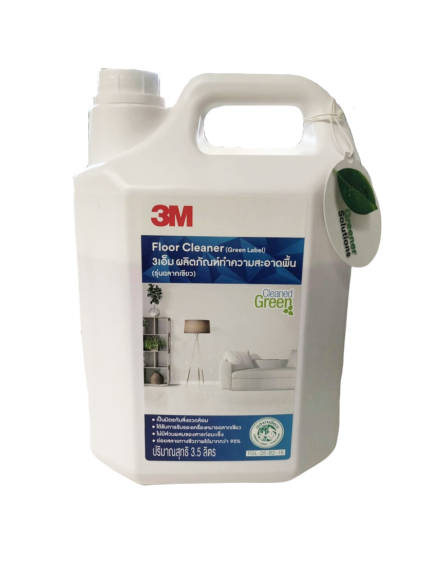Cleaning_solution: (66, 58, 390, 493)
